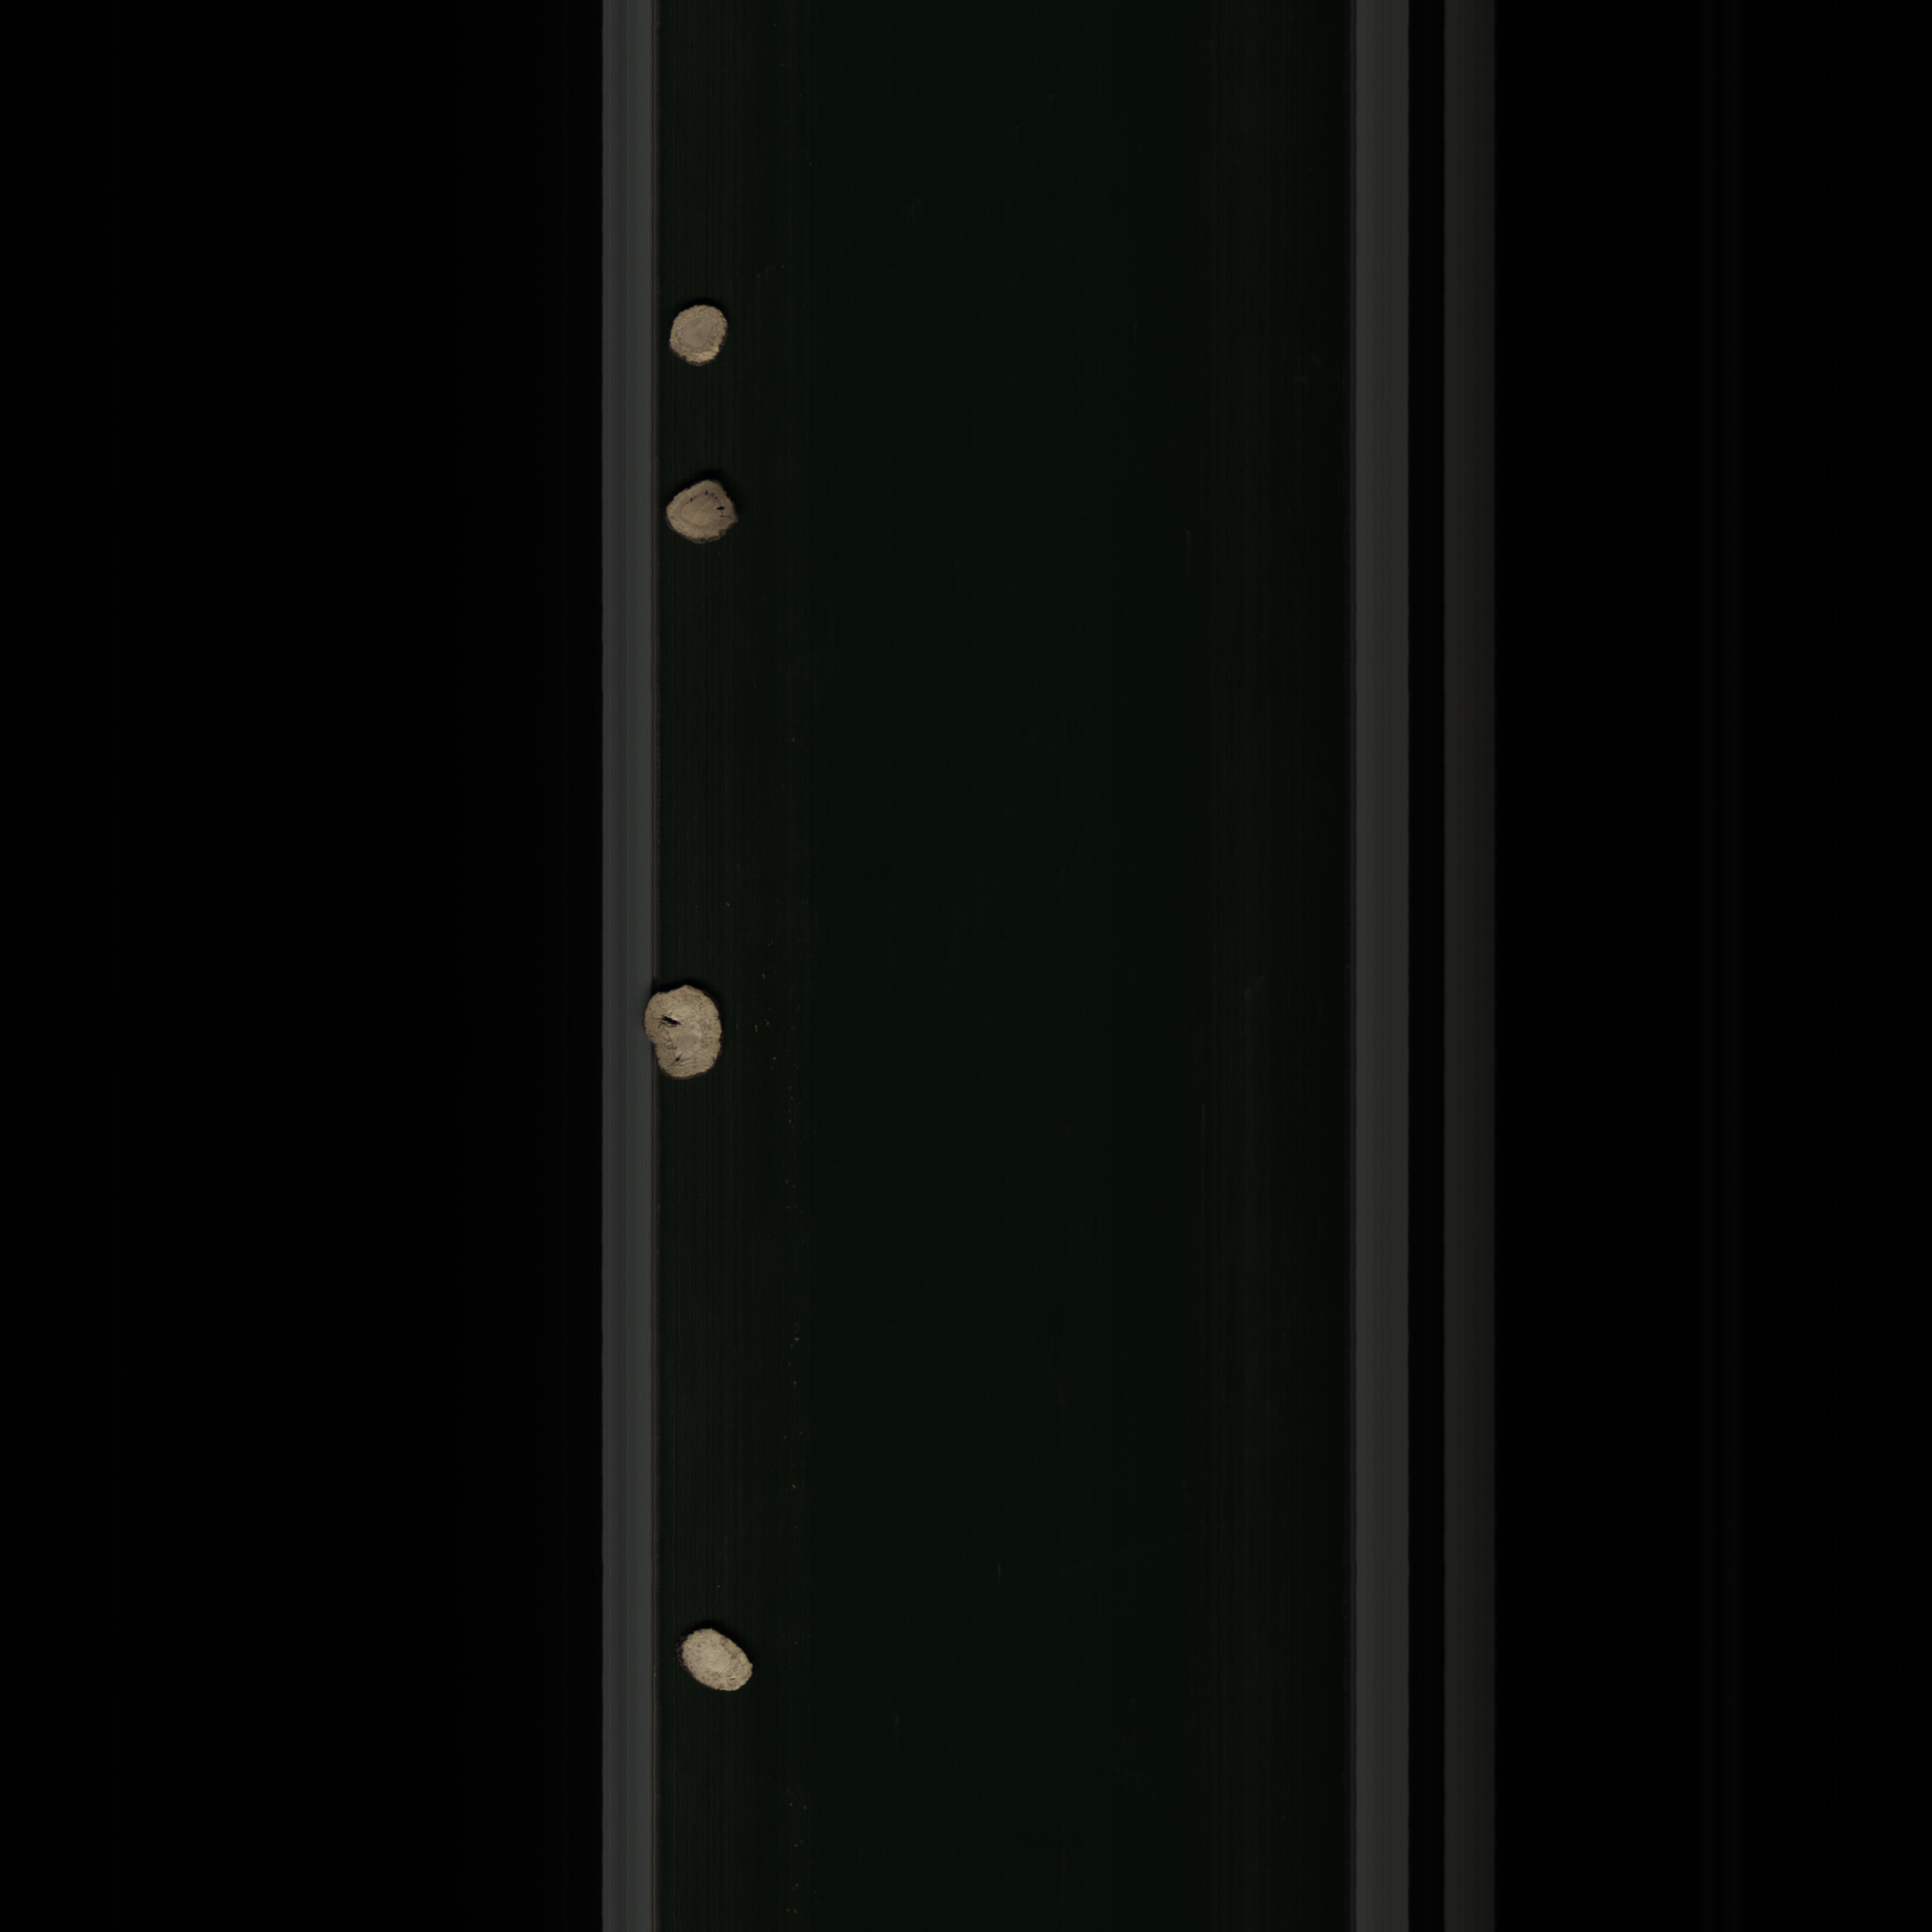hole: (633, 978, 731, 1088), (662, 476, 748, 559)
